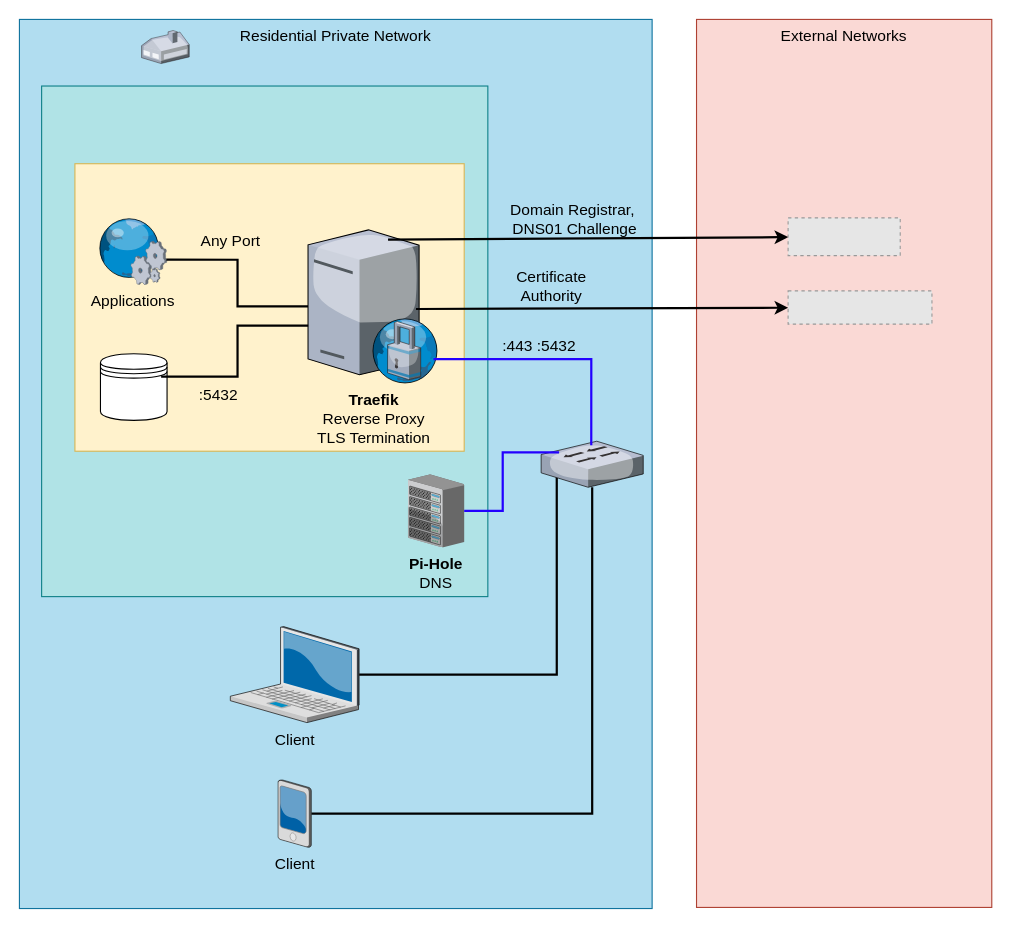
Image size: 1011x928. Some labels were removed from this diagram. Grey dashed boxes stand in for pictures. Here are the shapes that lost their labels. From the top down, the box of each, then its label:
(74, 163, 464, 451): Docker Host
(41, 85, 488, 597): Homelab Proxmox VE
(99, 353, 167, 420): Shared PGSQL
(541, 441, 643, 487): Router
